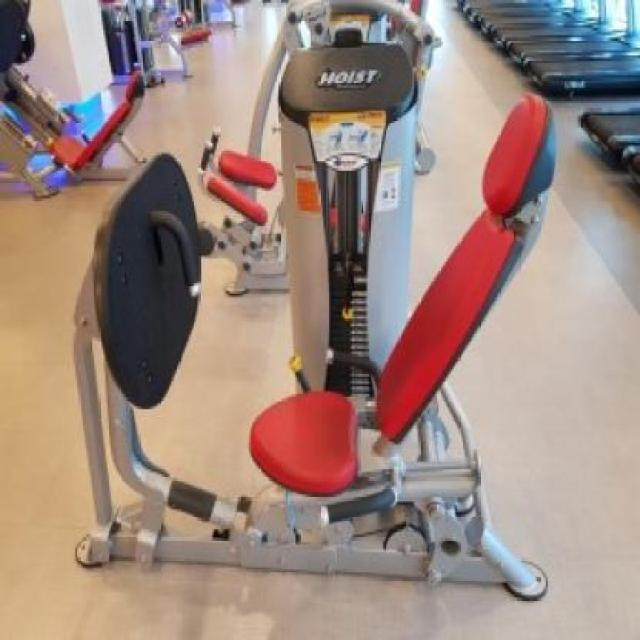leg press: (58, 31, 574, 614)
